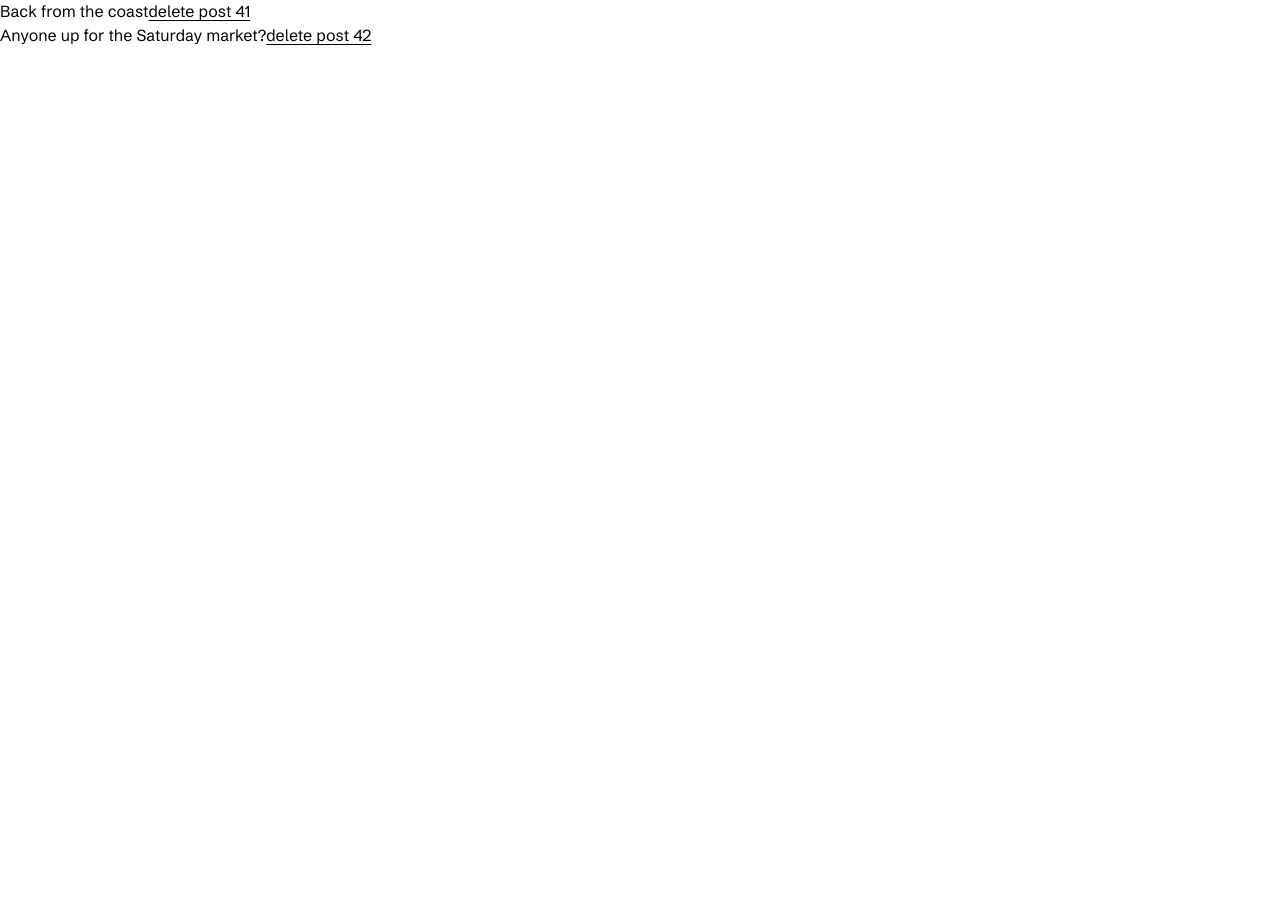
Test case: useConfirm › shows a generic sentence for an error that is not an API error
Click the button "delete post 41".
click(199, 12)  # box [148,0,250,24]
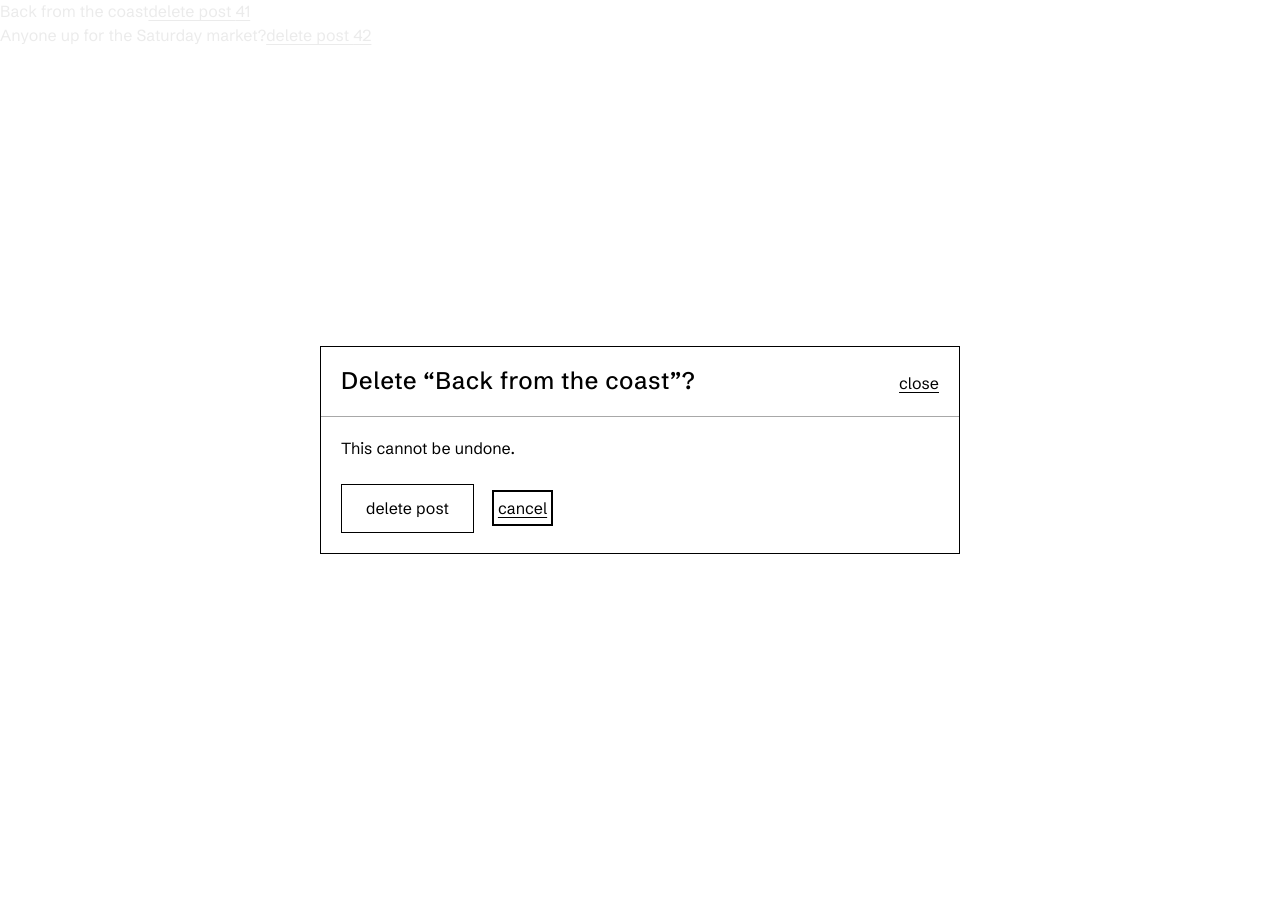
Click the button "delete post".
click(407, 508)  # box [341,484,474,533]
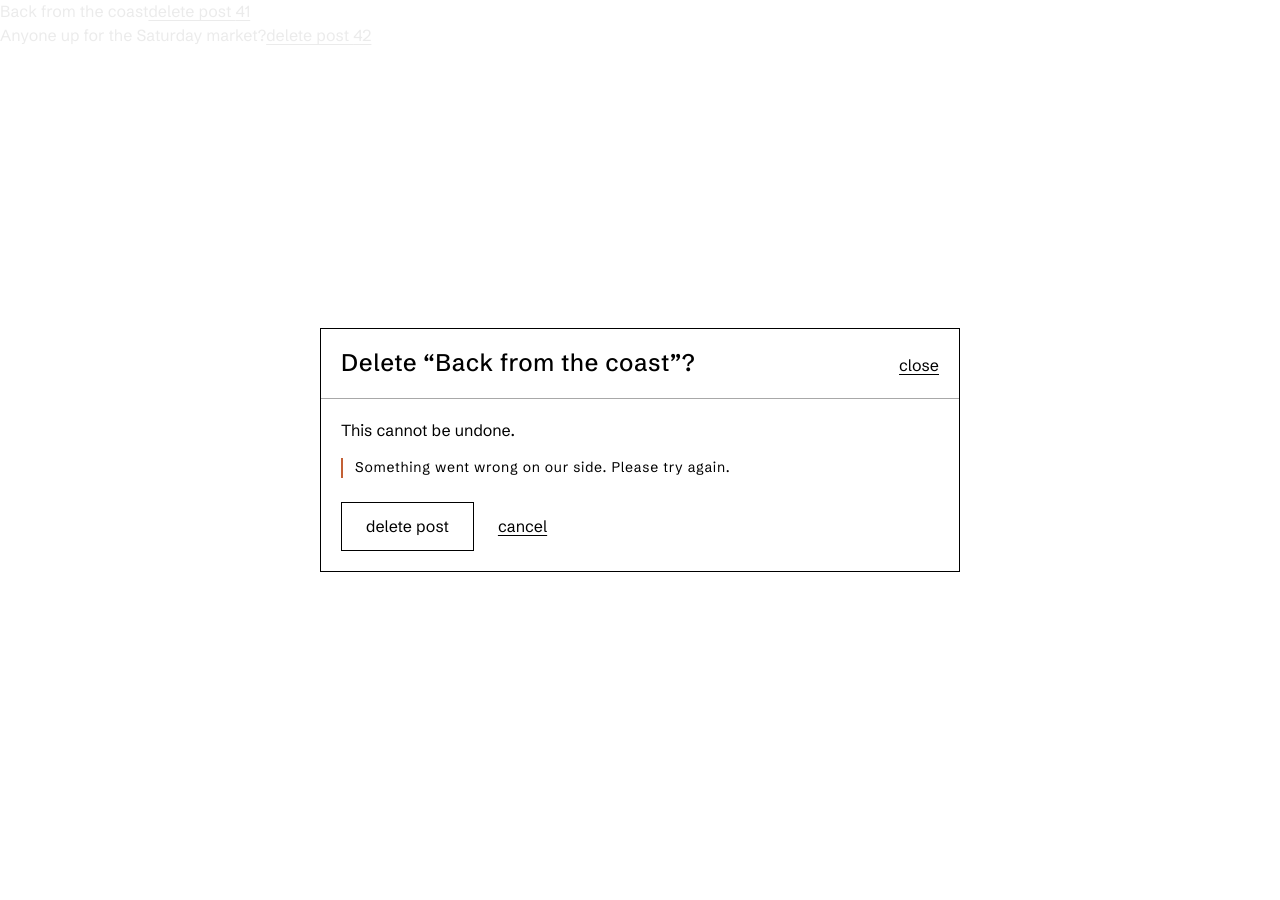
expect the text "Something went wrong on our side. Please try again." is shown: met, box [341,458,939,478]
